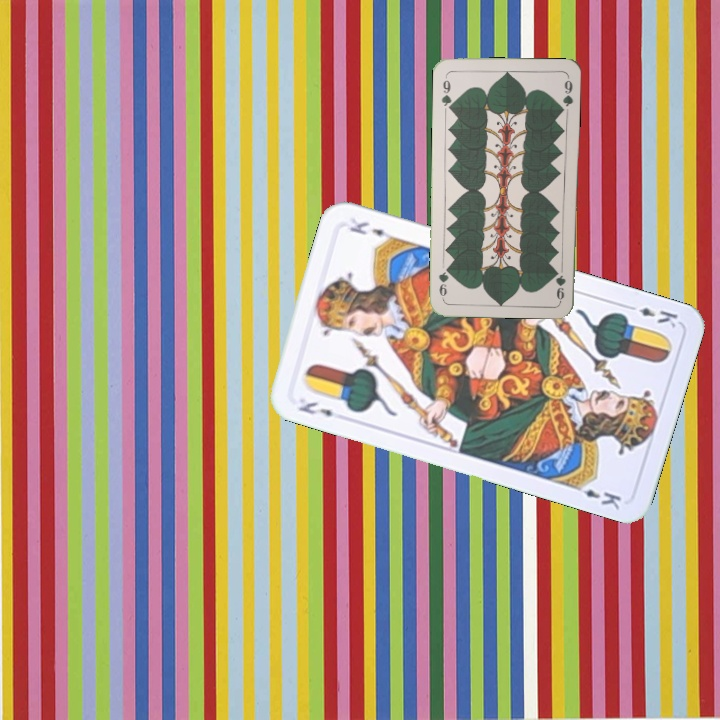EK: (622, 300, 681, 331), (294, 397, 335, 420)
G9: (437, 72, 455, 112), (553, 268, 568, 302)
